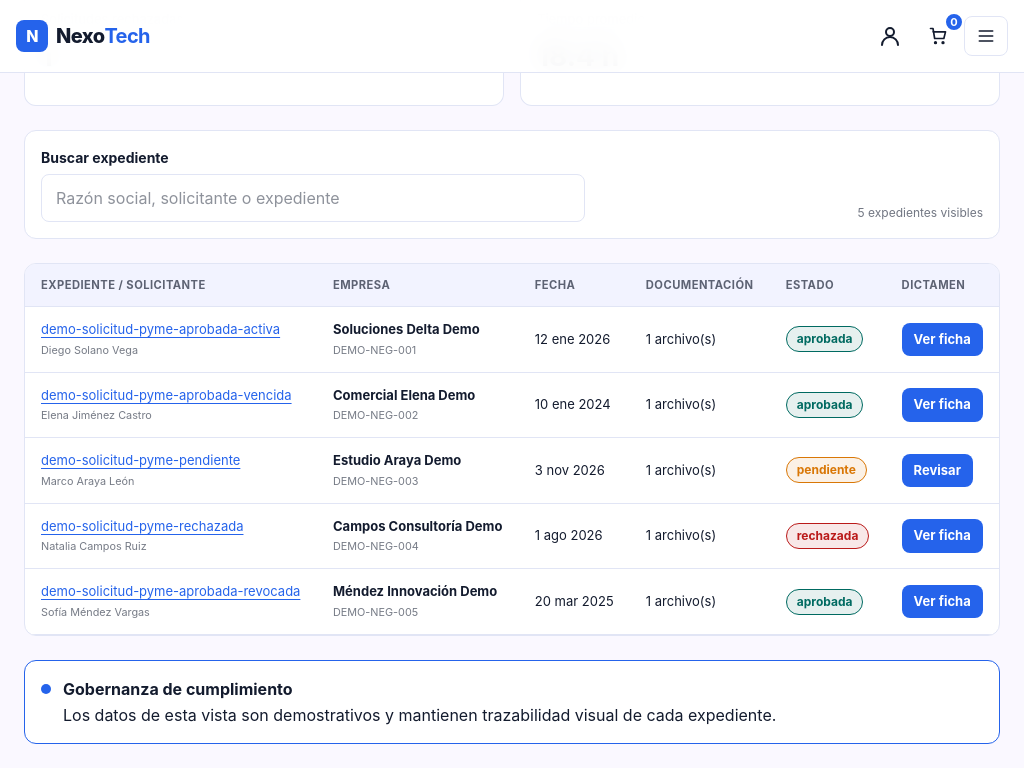
Test: panel administrativo › lista solicitudes y abre un expediente sin recargar
(page scrolled)
What coordinates should you click on to do the following:
click the link "Revisar"
I would click on:
 (937, 470)
Its box is [902,454,973,487].
(page scrolled)
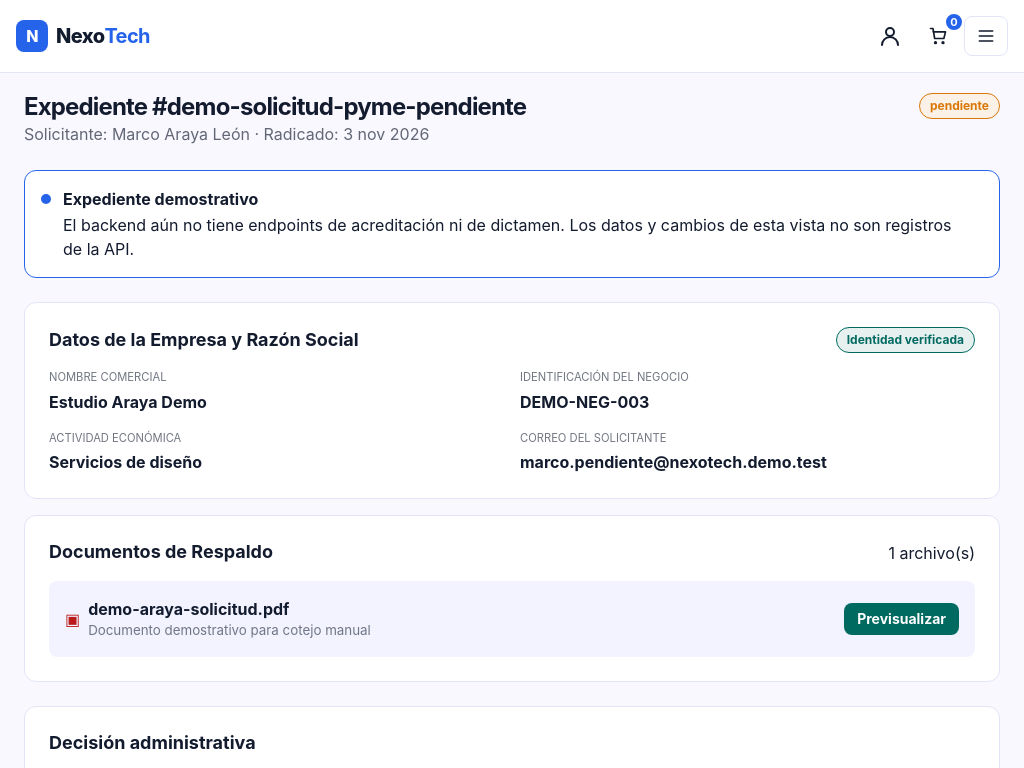
Result: the heading named "Revisar solicitud PYME" is shown at [24,93,526,122]
